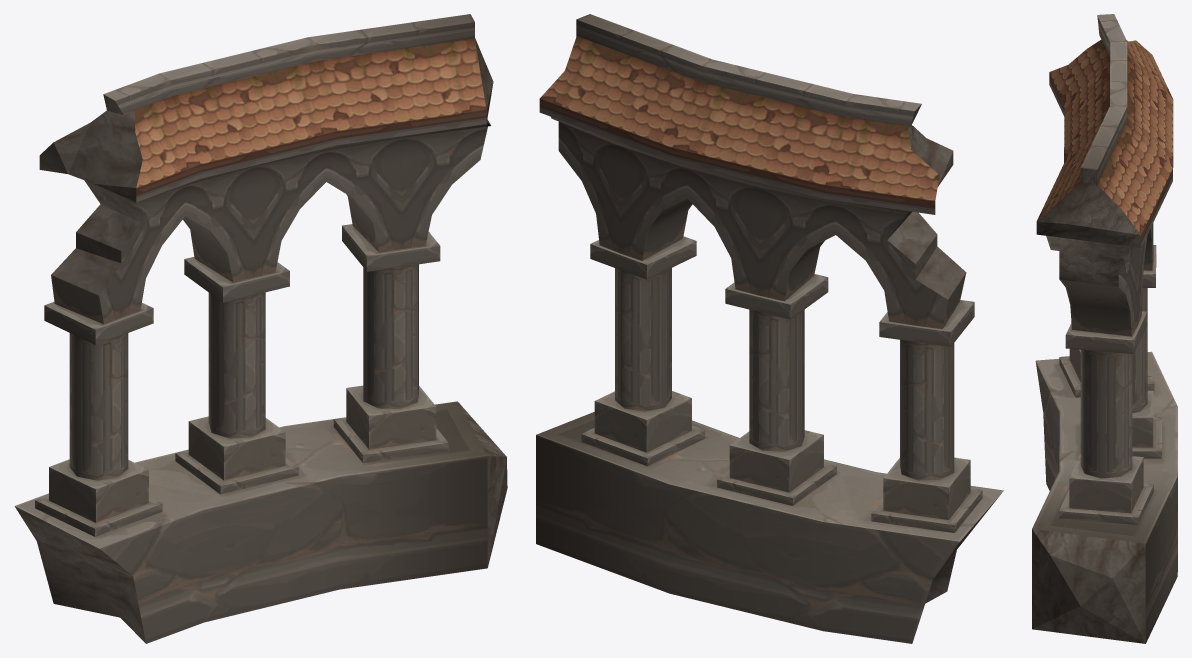
Rendered from sc_dungeon_moshenta_building_004_b.FBX.
3 views of the same model, side by side, from view 1: azimuth 30°, elevation 25°; view 2: azimuth 150°, elevation 25°; view 3: azimuth 270°, elevation 25° (orthographic). The views are drawn at different scales.
Parts seen in each view (by area): view 1: sc_dungeon_moshenta_building_004_b; view 2: sc_dungeon_moshenta_building_004_b; view 3: sc_dungeon_moshenta_building_004_b.
Boxes of the visible parts, left/top/right/bottom form: sc_dungeon_moshenta_building_004_b: left=14, top=14, right=507, bottom=643; sc_dungeon_moshenta_building_004_b: left=536, top=14, right=1003, bottom=643; sc_dungeon_moshenta_building_004_b: left=1032, top=14, right=1177, bottom=643.
Bounding box in the file's own units: 18.33 × 20.11 × 5.69.
